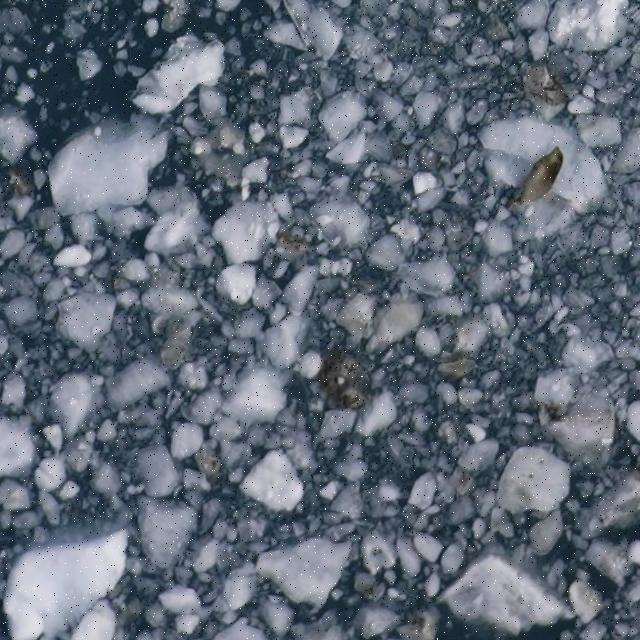seal: (500, 142, 576, 219)
